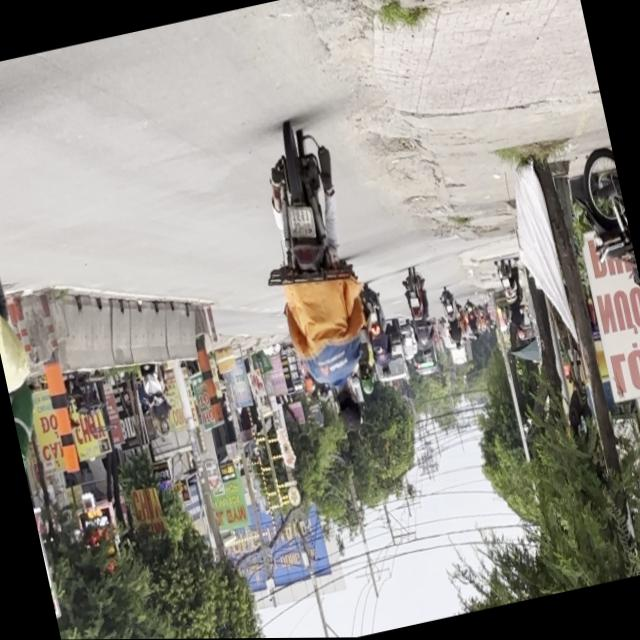licenseplate: (235, 116, 394, 446)
motorcyclist: (332, 383, 364, 433)
nohelmet: (284, 204, 318, 243)
